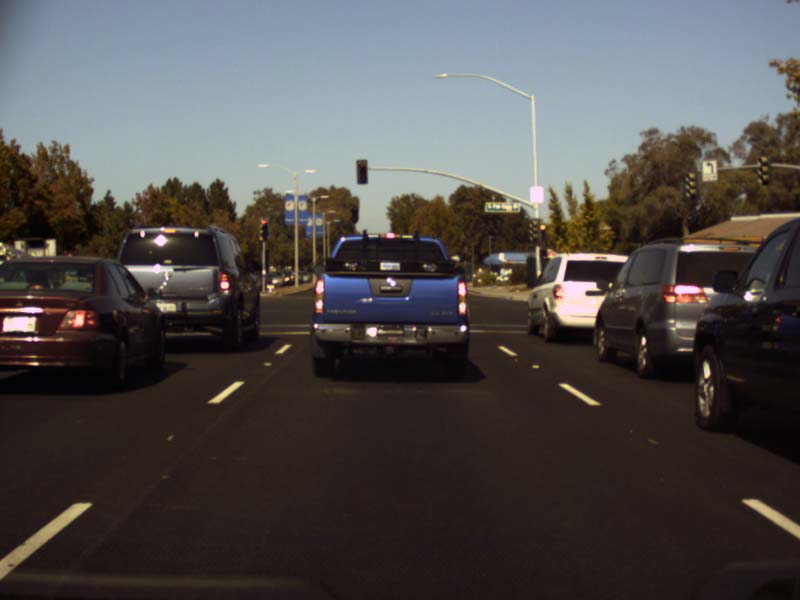Red: (357, 160, 367, 183), (261, 218, 267, 237), (540, 224, 545, 239)
